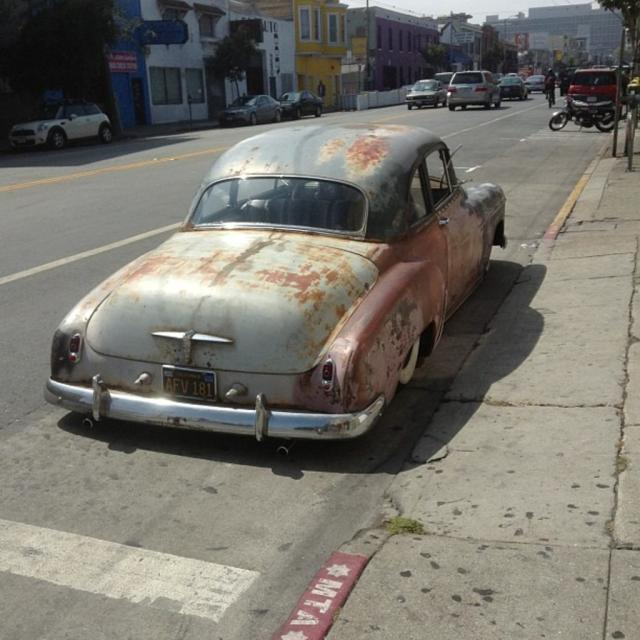car: (44, 118, 504, 455), (7, 102, 112, 140), (219, 95, 281, 121)
